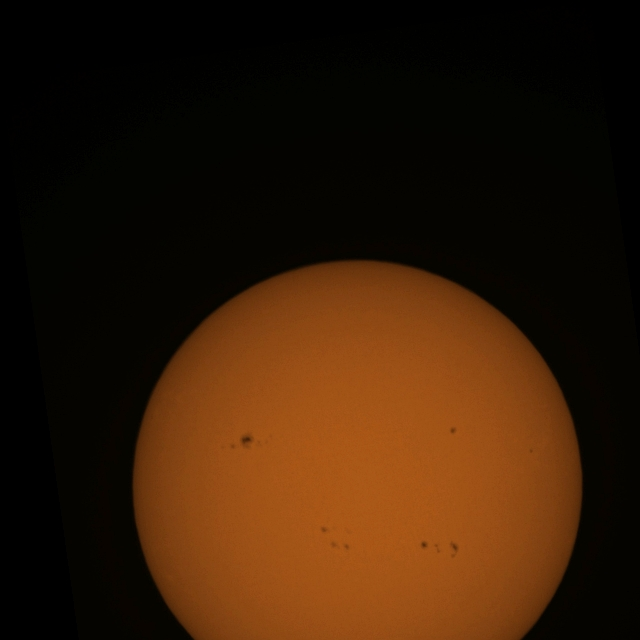sunspot: (320, 526, 350, 550), (229, 432, 262, 452), (428, 540, 460, 559), (420, 540, 441, 554), (328, 539, 350, 551), (448, 540, 460, 558), (420, 540, 429, 550), (449, 426, 458, 436), (320, 526, 328, 534), (528, 448, 534, 454)
